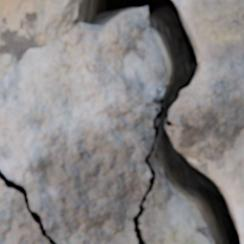broken_brick: (0, 9, 164, 243), (167, 0, 243, 243), (140, 163, 210, 243), (0, 181, 48, 243)
crack: (79, 0, 242, 243), (0, 168, 58, 243)
